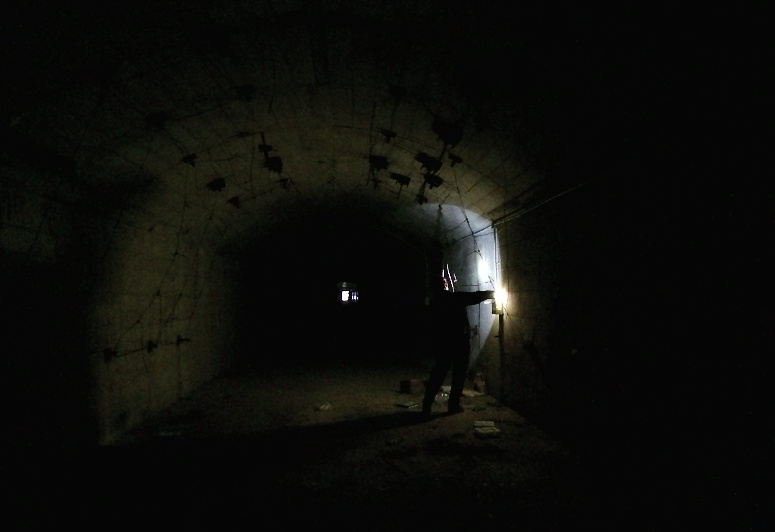person: (420, 276, 500, 422)
